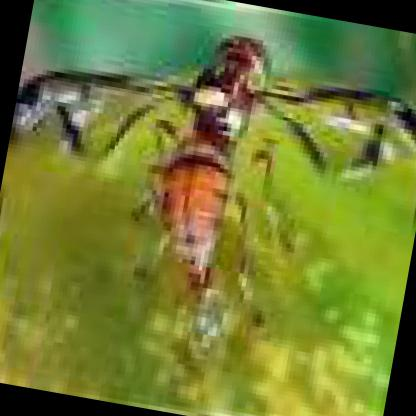fruit fly: (18, 32, 416, 312)
